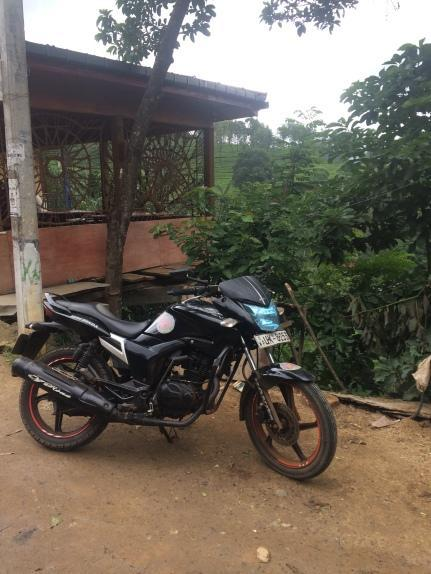motorbike: (12, 273, 338, 481)
